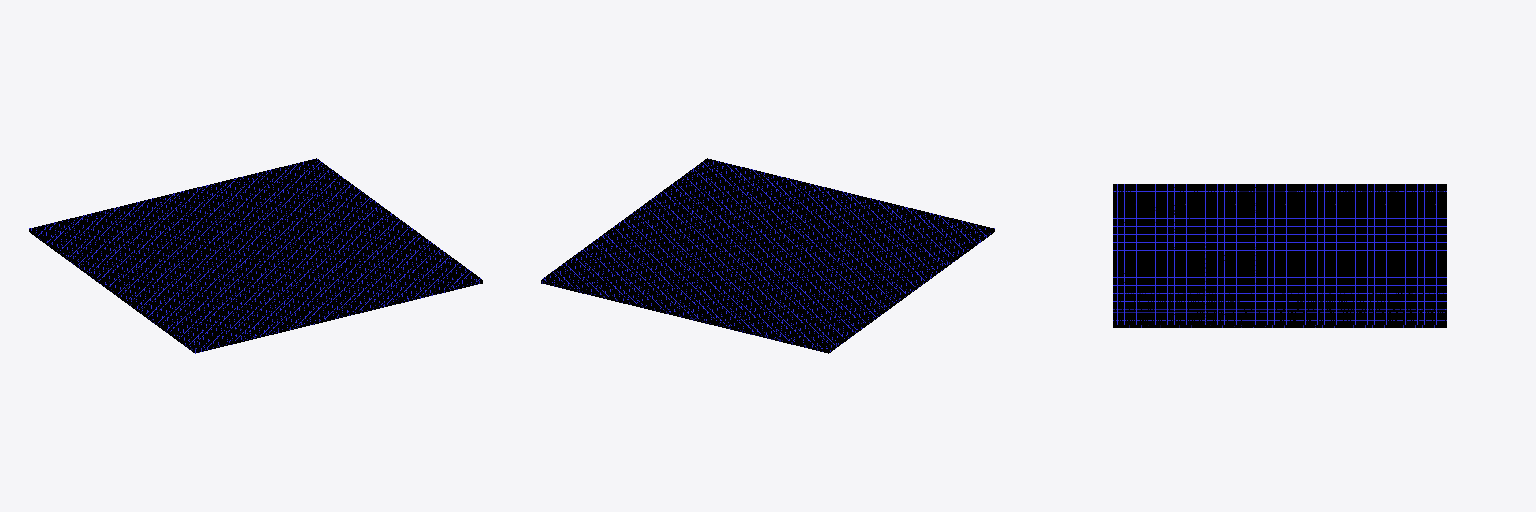
The picture shows the model from 3 angles: view 1: azimuth 30°, elevation 25°; view 2: azimuth 150°, elevation 25°; view 3: azimuth 270°, elevation 25°; orthographic projection.
Parts seen in each view (by area): view 1: pCube7; view 2: pCube7; view 3: pCube7.
Part boxes in pixels (left/top/right/bottom): pCube7: left=29, top=158, right=482, bottom=353; pCube7: left=541, top=158, right=994, bottom=353; pCube7: left=1113, top=184, right=1446, bottom=327.
Size of the model in its own units: 1 by 0.01 by 1.
Materials: 1 (1 with a texture image).